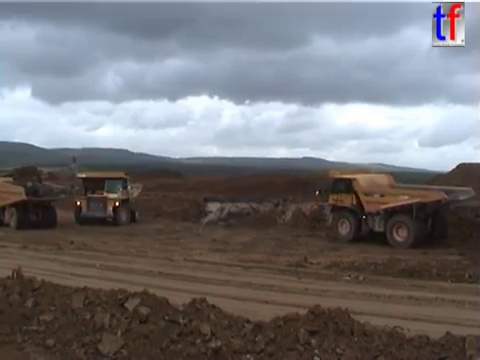truck: (313, 167, 475, 249), (73, 170, 143, 226), (1, 174, 69, 231)
